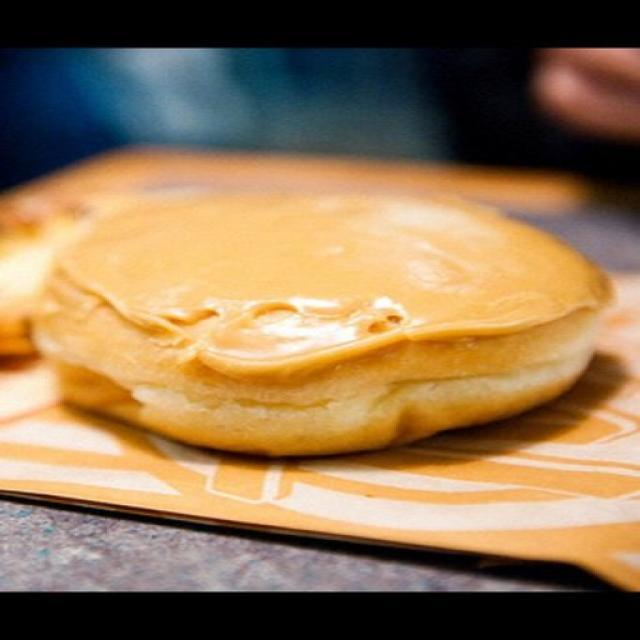Donuts: (56, 161, 628, 545)
